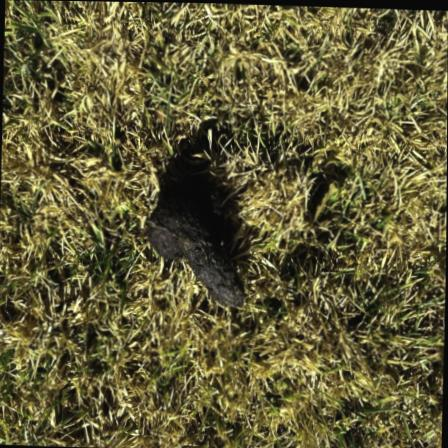dog-poop: (140, 189, 258, 318)
